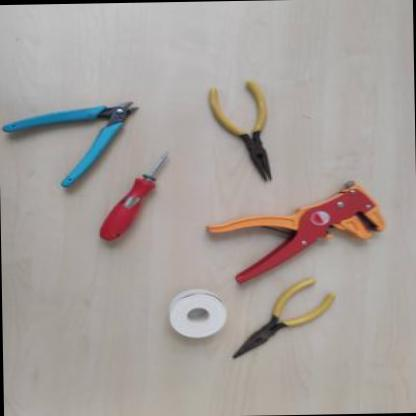Screwdriver: (93, 148, 172, 240)
